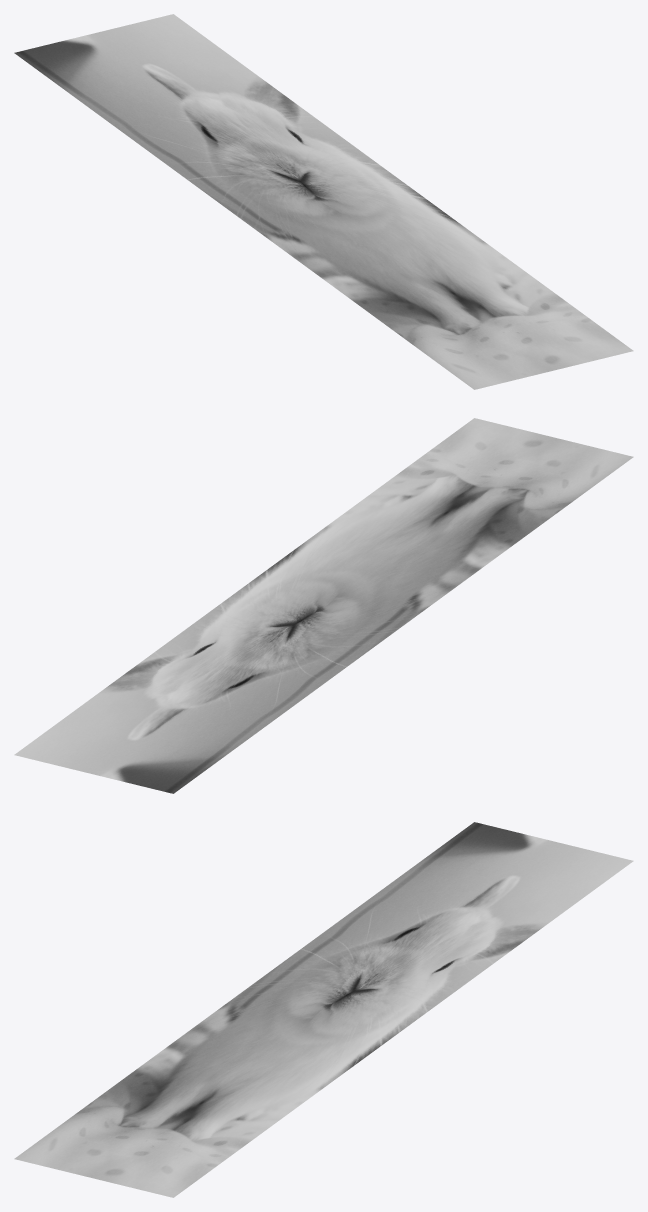
The model's file is Rabbit.gltf.
The picture shows the model from 3 angles, top to bottom: view 1: azimuth 30°, elevation 25°; view 2: azimuth 150°, elevation 25°; view 3: azimuth 330°, elevation 25°; orthographic projection.
Visible parts, largest first — view 1: Plane; view 2: Plane; view 3: Plane.
Boxes of the visible parts, x1,y1,x2,y2 form: Plane: [14, 14, 633, 389]; Plane: [14, 418, 633, 793]; Plane: [14, 822, 633, 1197].
Bounding box in the file's own units: 2 × 0 × 10.
